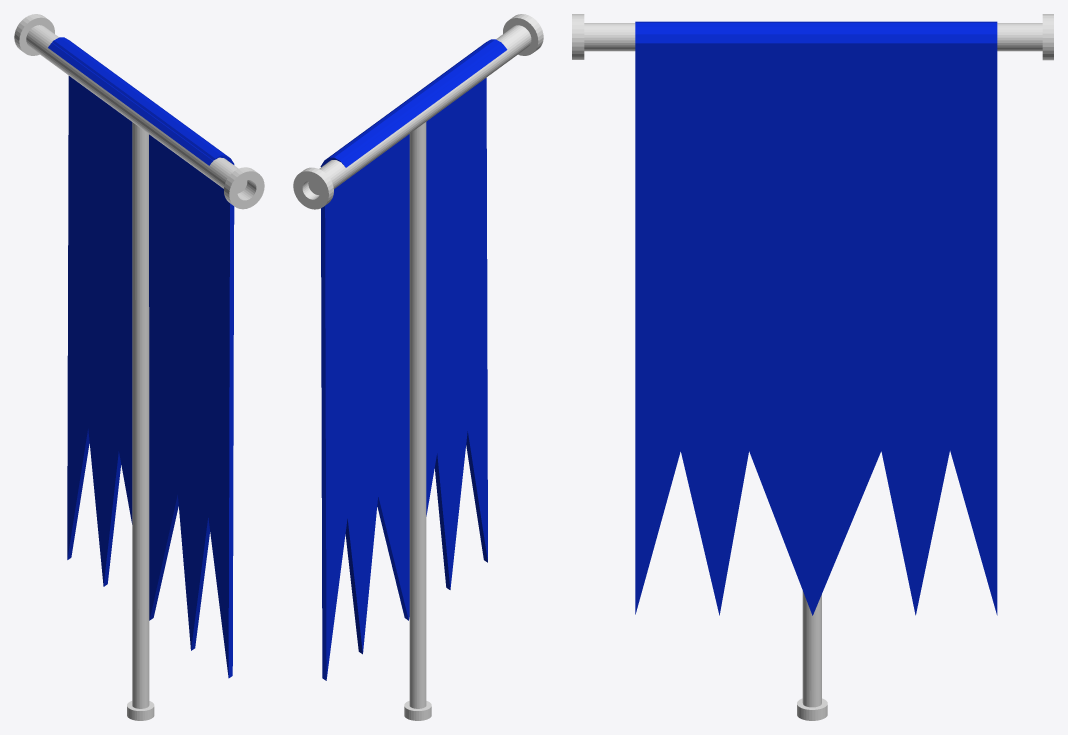
File: FinalFlag.fbx
3 views of the same model, side by side, from view 1: azimuth 30°, elevation 25°; view 2: azimuth 150°, elevation 25°; view 3: azimuth 270°, elevation 25° (orthographic). The views are drawn at different scales.
Visible parts, largest first — view 1: Plane; view 2: Plane; view 3: Plane.
Part boxes in pixels (x1,y1,x2,y2): Plane: (14,14,264,720); Plane: (293,14,543,720); Plane: (572,14,1053,720).
Size of the model in its own units: 202 by 3357 by 2100.
